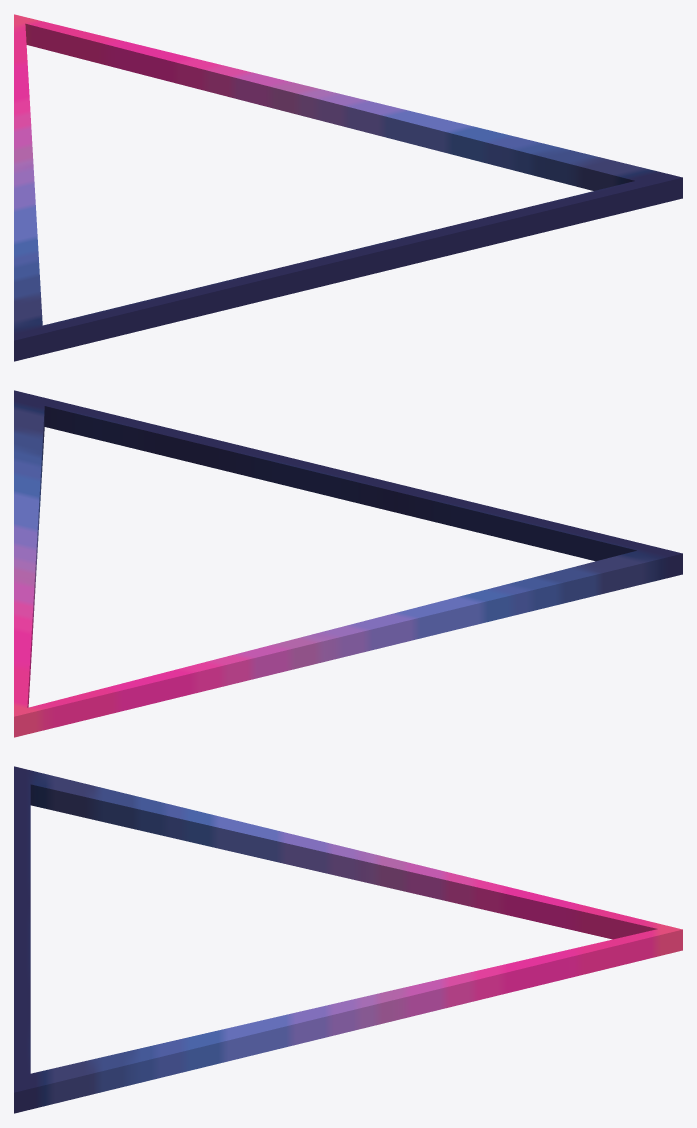
File: Structure_Vapor_Frame_Neon_03_Art.fbx
The picture shows the model from 3 angles, top to bottom: view 1: azimuth 30°, elevation 25°; view 2: azimuth 150°, elevation 25°; view 3: azimuth 270°, elevation 25°; orthographic projection.
Parts seen in each view (by area): view 1: Structure_Vapor_Frame_Neon_03_Art; view 2: Structure_Vapor_Frame_Neon_03_Art; view 3: Structure_Vapor_Frame_Neon_03_Art.
Part boxes in pixels (x1,y1,x2,y2): Structure_Vapor_Frame_Neon_03_Art: [14, 14, 682, 361]; Structure_Vapor_Frame_Neon_03_Art: [14, 390, 682, 737]; Structure_Vapor_Frame_Neon_03_Art: [14, 766, 682, 1113].
Bounding box in the file's own units: 9.7 × 0.29 × 8.4.
